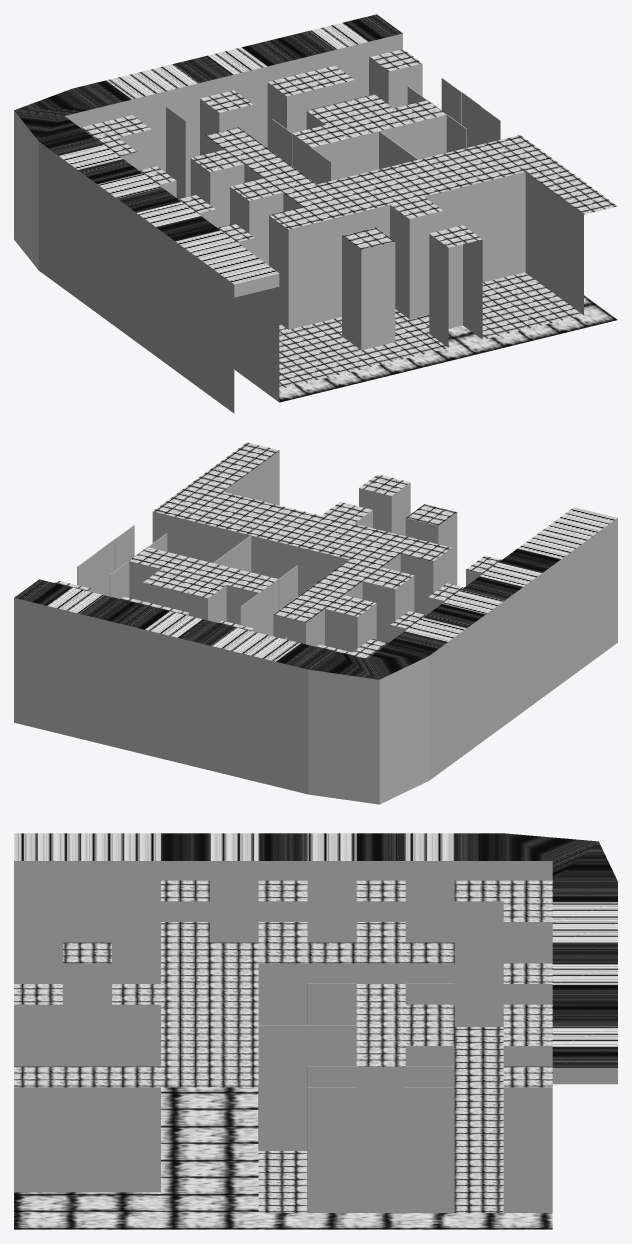
Rendered from hopital1 .fbx.
The picture shows the model from 3 angles, top to bottom: view 1: azimuth 30°, elevation 25°; view 2: azimuth 150°, elevation 25°; view 3: azimuth 270°, elevation 25°; orthographic projection. The views are drawn at different scales.
Visible parts, largest first — view 1: Cube.001; view 2: Cube.001; view 3: Cube.001.
Part boxes in pixels (x1=…): Cube.001: x1=14, y1=14, x2=617, y2=413; Cube.001: x1=14, y1=442, x2=617, y2=804; Cube.001: x1=14, y1=833, x2=617, y2=1229.
Size of the model in its own units: 964 by 310 by 1049.
